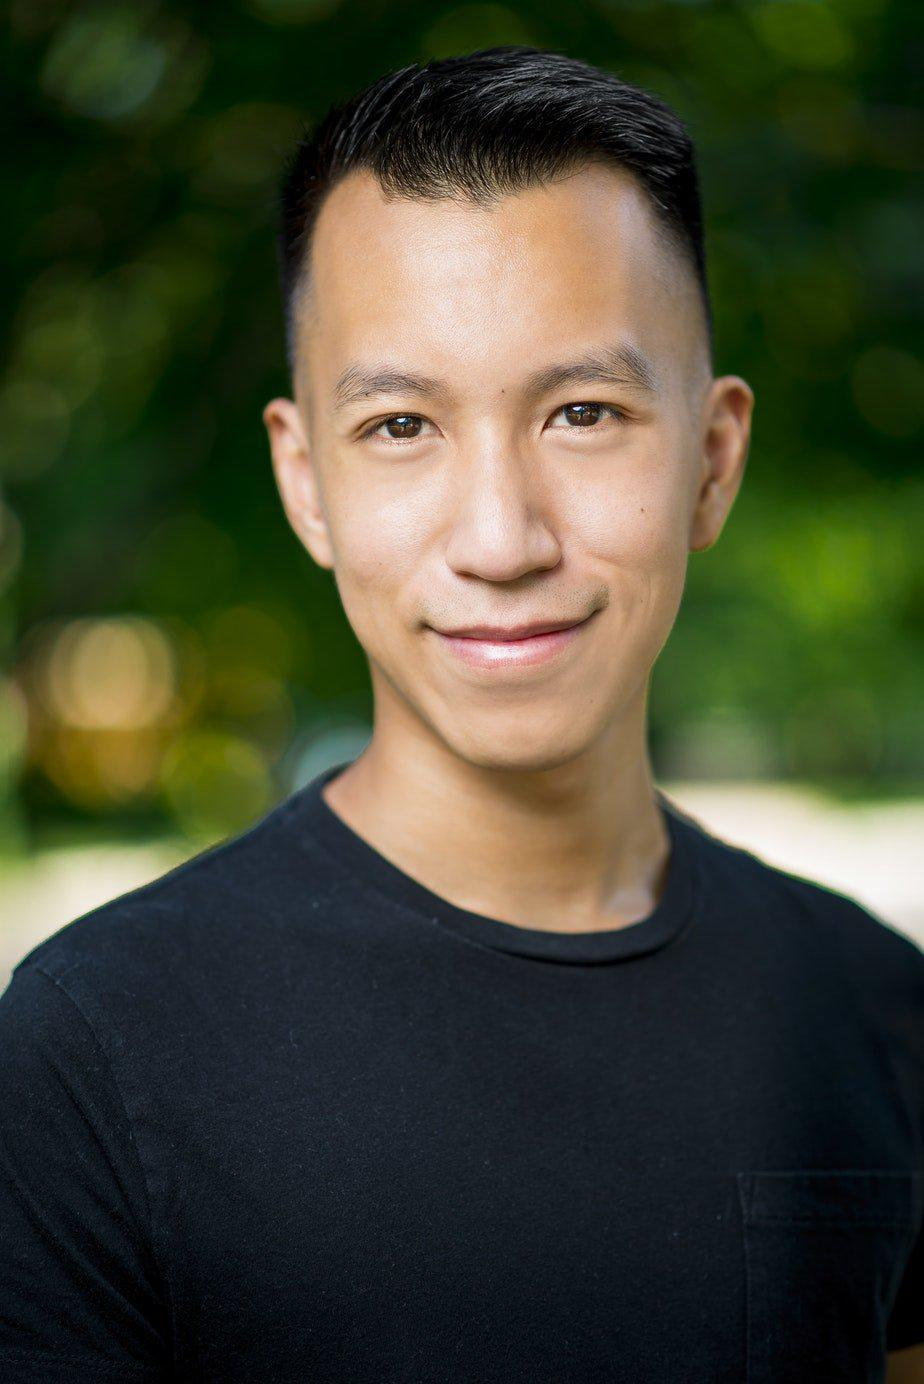Sober: (311, 197, 688, 752)
